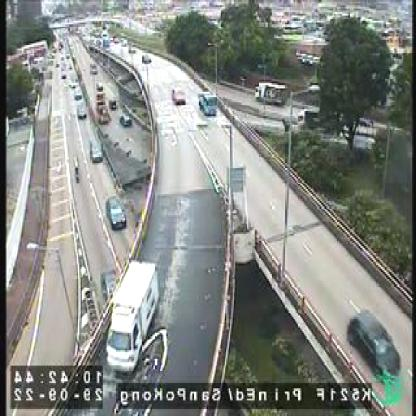Car: (348, 306, 406, 379), (104, 196, 129, 230), (90, 133, 104, 163), (171, 85, 188, 102), (77, 99, 88, 120), (119, 115, 132, 128), (144, 52, 154, 62)
Truck: (105, 258, 161, 373), (253, 78, 290, 107), (196, 90, 218, 115)
